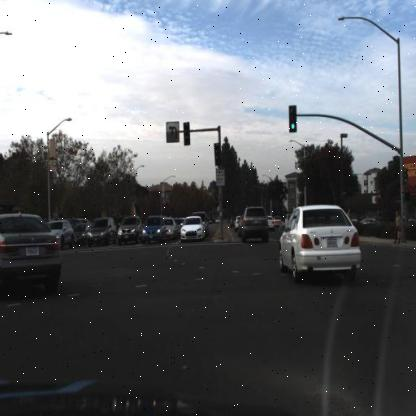car: (278, 204, 363, 292), (1, 203, 60, 293), (42, 216, 75, 249), (20, 213, 56, 240), (242, 204, 269, 240), (86, 217, 116, 247), (140, 213, 166, 246), (118, 211, 140, 247), (117, 214, 142, 244), (180, 214, 205, 239), (73, 222, 88, 248), (195, 210, 210, 236), (273, 205, 288, 231), (164, 216, 177, 243), (267, 206, 278, 236), (259, 204, 267, 230), (234, 212, 242, 235), (230, 210, 238, 230)
trafficLight-Green: (286, 98, 298, 138), (213, 142, 220, 169), (402, 167, 409, 186)
trafficLight-GreenLeft: (212, 137, 223, 170), (182, 120, 193, 147)
